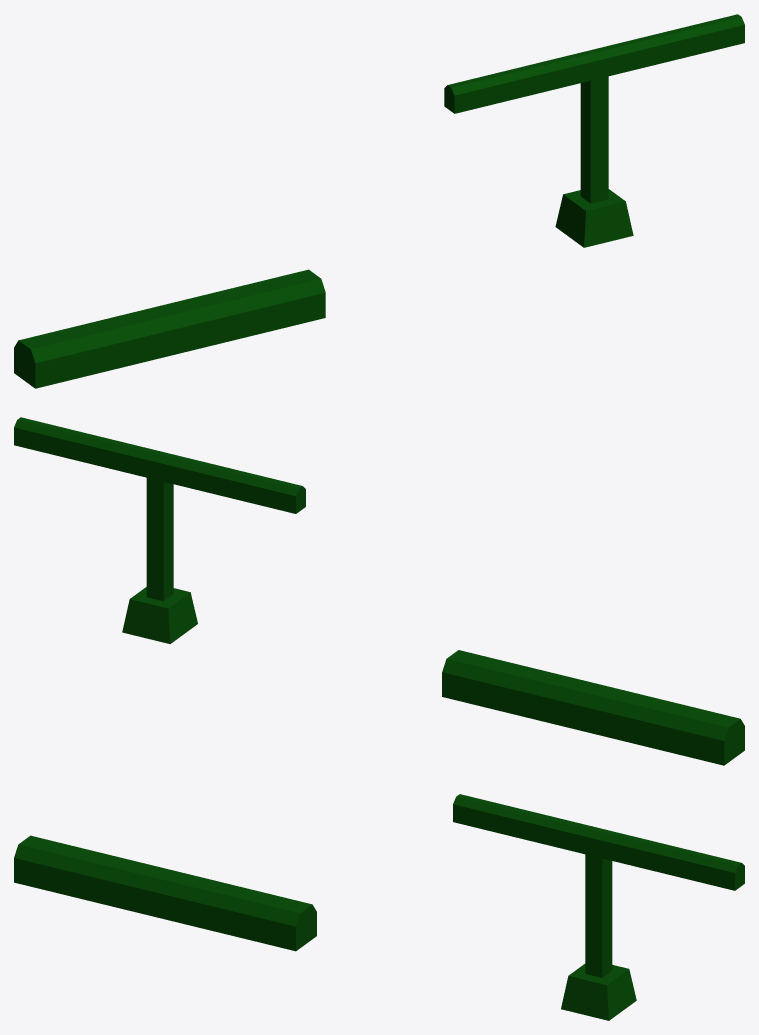
File: MESH_RailPACK.fbx
3 views of the same model, one above another, from view 1: azimuth 30°, elevation 25°; view 2: azimuth 150°, elevation 25°; view 3: azimuth 330°, elevation 25° (orthographic). The views are drawn at different scales.
Visible parts, largest first — view 1: Rail_Regular, Rail_Fence; view 2: Rail_Regular, Rail_Fence; view 3: Rail_Regular, Rail_Fence.
Boxes of the visible parts, x1,y1,x2,y2 form: Rail_Regular: (14,269,325,388); Rail_Fence: (444,14,744,247); Rail_Regular: (442,650,744,765); Rail_Fence: (14,417,305,643); Rail_Regular: (14,835,316,951); Rail_Fence: (453,794,744,1020).
Bounding box in the file's own units: 5 × 1.19 × 0.4269.
